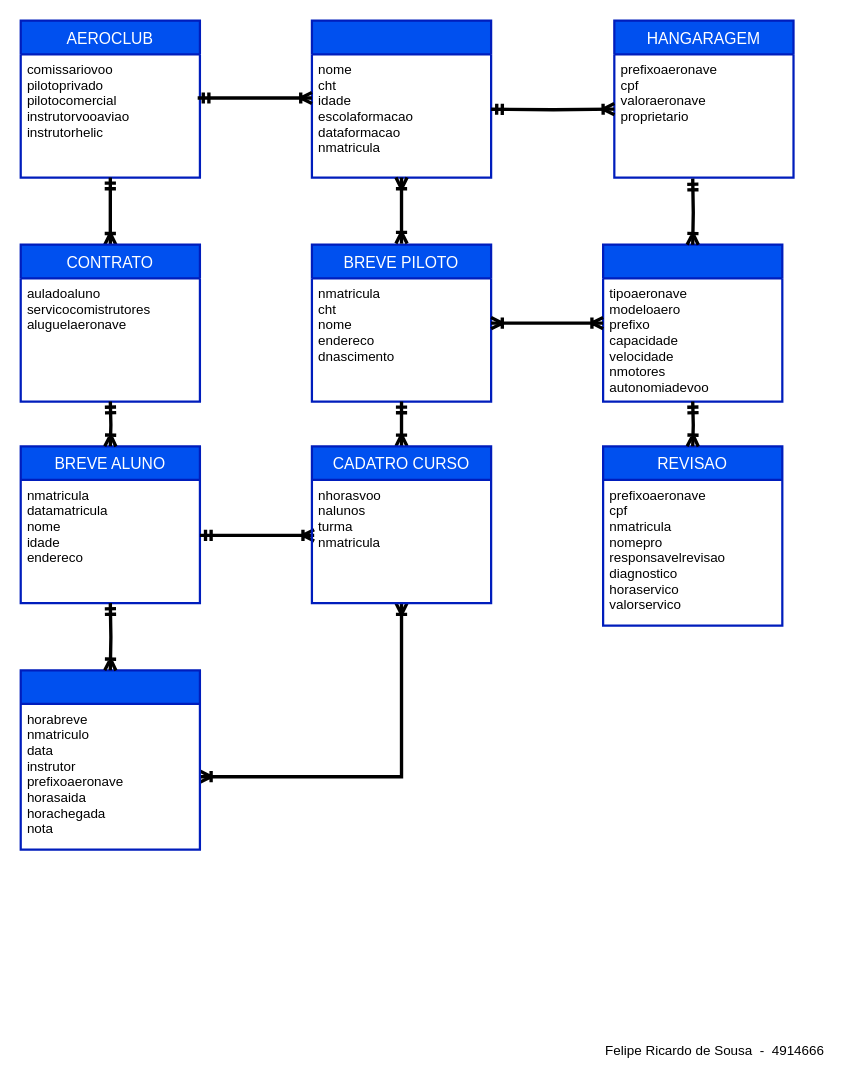
The diagram is 857 pixels wide and 1081 high, and some of its shapes have lost their labels. Each missing label, with the box of its shape:
AERONAVES: (601, 243, 783, 402)
CURSO ESCOLHIDO: (19, 669, 200, 850)
REGISTRO INSTRUTOR: (310, 19, 492, 178)
